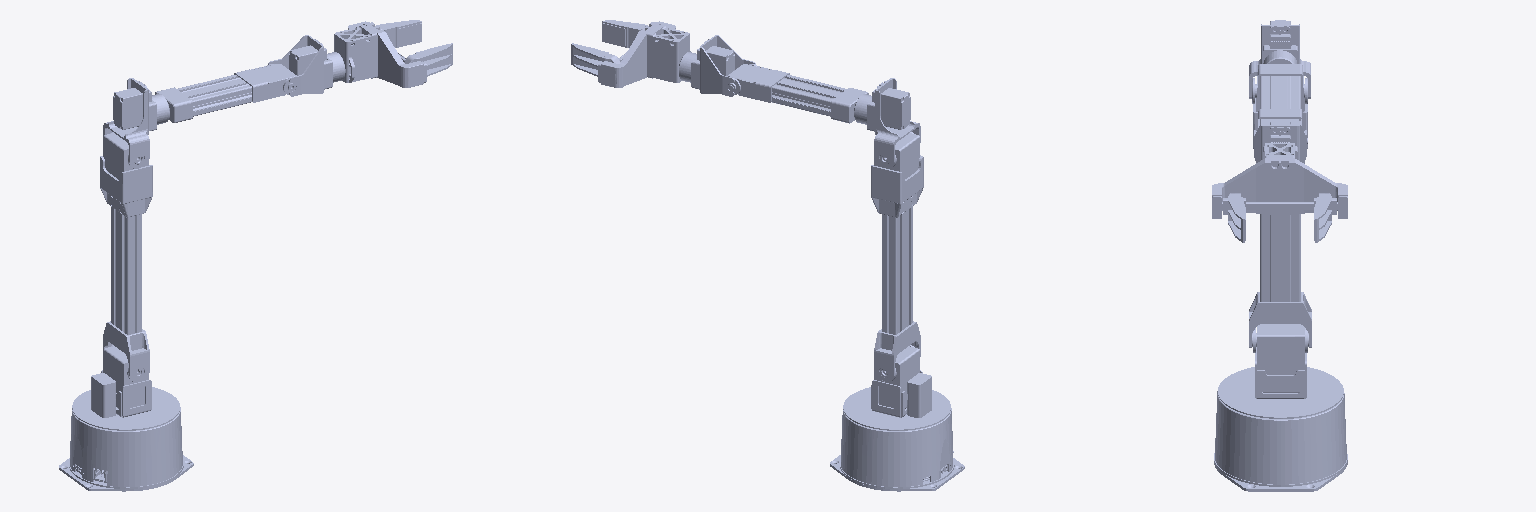
The robot description file, URDF, robot "d1_550_description":
<?xml version="1.0" encoding="utf-8"?>
<!-- This URDF was automatically created by SolidWorks to URDF Exporter! Originally created by [author] ([email redacted]) 
     Commit Version: 1.6.0-4-g7f85cfe  Build Version: 1.6.7995.38578
     For more information, please see http://wiki.ros.org/sw_urdf_exporter -->
<robot
  name="d1_550_description">
  <link
    name="base_link">
    <inertial>
      <origin
        xyz="-9.0106E-05 -0.00012378 0.033469"
        rpy="0 0 0" />
      <mass
        value="0.16964" />
      <inertia
        ixx="0.00030483"
        ixy="1.2051E-06"
        ixz="3.9736E-06"
        iyy="0.00031037"
        iyz="8.0144E-07"
        izz="0.00050913" />
    </inertial>
    <visual>
      <origin
        xyz="0 0 0"
        rpy="0 0 0" />
      <geometry>
        <mesh
          filename="package://d1_550_description/meshes/base_link.STL" />
      </geometry>
      <material
        name="">
        <color
          rgba="0.79216 0.81961 0.93333 1" />
      </material>
    </visual>
    <collision>
      <origin
        xyz="0 0 0"
        rpy="0 0 0" />
      <geometry>
        <mesh
          filename="package://d1_550_description/meshes/base_link.STL" />
      </geometry>
    </collision>
  </link>
  <link
    name="Empty_Link1">
    <inertial>
      <origin
        xyz="-0.0030892 6.1834E-05 0.031665"
        rpy="0 0 0" />
      <mass
        value="0.14706" />
      <inertia
        ixx="7.8054E-05"
        ixy="1.9698E-10"
        ixz="-1.574E-08"
        iyy="6.6897E-05"
        iyz="-4.3439E-09"
        izz="7.0773E-05" />
    </inertial>
    <visual>
      <origin
        xyz="0 0 0"
        rpy="0 0 0" />
      <geometry>
        <mesh
          filename="package://d1_550_description/meshes/Empty_Link1.STL" />
      </geometry>
      <material
        name="">
        <color
          rgba="0.79216 0.81961 0.93333 1" />
      </material>
    </visual>
    <collision>
      <origin
        xyz="0 0 0"
        rpy="0 0 0" />
      <geometry>
        <mesh
          filename="package://d1_550_description/meshes/Empty_Link1.STL" />
      </geometry>
    </collision>
  </link>
  <joint
    name="Joint1"
    type="revolute">
    <origin
      xyz="0 0 0.0738"
      rpy="0 0 0" />
    <parent
      link="base_link" />
    <child
      link="Empty_Link1" />
    <axis
      xyz="0 0 -1" />
    <limit
      lower="-2.36"
      upper="2.36"
      effort="3.33"
      velocity="1.05" />
  </joint>
  <link
    name="Empty_Link2">
    <inertial>
      <origin
        xyz="5.7801E-05 0.027243 0.19413"
        rpy="0 0 0" />
      <mass
        value="0.20987" />
      <inertia
        ixx="0.00025832"
        ixy="-2.101E-11"
        ixz="-1.4864E-07"
        iyy="0.00023175"
        iyz="-4.425E-09"
        izz="6.5679E-05" />
    </inertial>
    <visual>
      <origin
        xyz="0 0 0"
        rpy="0 0 0" />
      <geometry>
        <mesh
          filename="package://d1_550_description/meshes/Empty_Link2.STL" />
      </geometry>
      <material
        name="">
        <color
          rgba="0.79216 0.81961 0.93333 1" />
      </material>
    </visual>
    <collision>
      <origin
        xyz="0 0 0"
        rpy="0 0 0" />
      <geometry>
        <mesh
          filename="package://d1_550_description/meshes/Empty_Link2.STL" />
      </geometry>
    </collision>
  </link>
  <joint
    name="Joint2"
    type="revolute">
    <origin
      xyz="0 -0.0276 0.0578"
      rpy="0 0 0" />
    <parent
      link="Empty_Link1" />
    <child
      link="Empty_Link2" />
    <axis
      xyz="0 1 0" />
    <limit
      lower="-1.57"
      upper="1.57"
      effort="3.33"
      velocity="1.05" />
  </joint>
  <link
    name="Empty_Link3">
    <inertial>
      <origin
        xyz="0.016105 0.0275 0.044231"
        rpy="0 0 0" />
      <mass
        value="0.064921" />
      <inertia
        ixx="2.0648E-05"
        ixy="-3.9865E-11"
        ixz="-2.0913E-06"
        iyy="1.6024E-05"
        iyz="-5.5601E-11"
        izz="1.2186E-05" />
    </inertial>
    <visual>
      <origin
        xyz="0 0 0"
        rpy="0 0 0" />
      <geometry>
        <mesh
          filename="package://d1_550_description/meshes/Empty_Link3.STL" />
      </geometry>
      <material
        name="">
        <color
          rgba="0.79216 0.81961 0.93333 1" />
      </material>
    </visual>
    <collision>
      <origin
        xyz="0 0 0"
        rpy="0 0 0" />
      <geometry>
        <mesh
          filename="package://d1_550_description/meshes/Empty_Link3.STL" />
      </geometry>
    </collision>
  </link>
  <joint
    name="Joint3"
    type="revolute">
    <origin
      xyz="0 -0.0004 0.27"
      rpy="0 0 0" />
    <parent
      link="Empty_Link2" />
    <child
      link="Empty_Link3" />
    <axis
      xyz="0 1 0" />
    <limit
      lower="-1.57"
      upper="1.57"
      effort="3.33"
      velocity="1.05" />
  </joint>
  <link
    name="Empty_Link4">
    <inertial>
      <origin
        xyz="0.096072 3.157E-05 0.00025559"
        rpy="0 0 0" />
      <mass
        value="0.081362" />
      <inertia
        ixx="1.6724E-05"
        ixy="-5.5957E-08"
        ixz="9.45E-08"
        iyy="5.1663E-05"
        iyz="1.6089E-12"
        izz="6.1415E-05" />
    </inertial>
    <visual>
      <origin
        xyz="0 0 0"
        rpy="0 0 0" />
      <geometry>
        <mesh
          filename="package://d1_550_description/meshes/Empty_Link4.STL" />
      </geometry>
      <material
        name="">
        <color
          rgba="0.79216 0.81961 0.93333 1" />
      </material>
    </visual>
    <collision>
      <origin
        xyz="0 0 0"
        rpy="0 0 0" />
      <geometry>
        <mesh
          filename="package://d1_550_description/meshes/Empty_Link4.STL" />
      </geometry>
    </collision>
  </link>
  <joint
    name="Joint4"
    type="revolute">
    <origin
      xyz="0.05 0.0275 0.041325"
      rpy="0 0 0" />
    <parent
      link="Empty_Link3" />
    <child
      link="Empty_Link4" />
    <axis
      xyz="1 0 0" />
    <limit
      lower="-2.36"
      upper="2.36"
      effort="1.67"
      velocity="1.73" />
  </joint>
  <link
    name="Empty_Link5">
    <inertial>
      <origin
        xyz="0.044211 0.025813 0.0054296"
        rpy="0 0 0" />
      <mass
        value="0.059846" />
      <inertia
        ixx="1.4667E-05"
        ixy="-4.9109E-10"
        ixz="-4.7057E-07"
        iyy="1.2009E-05"
        iyz="1.4753E-09"
        izz="9.9767E-06" />
    </inertial>
    <visual>
      <origin
        xyz="0 0 0"
        rpy="0 0 0" />
      <geometry>
        <mesh
          filename="package://d1_550_description/meshes/Empty_Link5.STL" />
      </geometry>
      <material
        name="">
        <color
          rgba="0.79216 0.81961 0.93333 1" />
      </material>
    </visual>
    <collision>
      <origin
        xyz="0 0 0"
        rpy="0 0 0" />
      <geometry>
        <mesh
          filename="package://d1_550_description/meshes/Empty_Link5.STL" />
      </geometry>
    </collision>
  </link>
  <joint
    name="Joint5"
    type="revolute">
    <origin
      xyz="0.15468 -0.0258 0.0001"
      rpy="0 0 0" />
    <parent
      link="Empty_Link4" />
    <child
      link="Empty_Link5" />
    <axis
      xyz="0 1 0" />
    <limit
      lower="-1.57"
      upper="1.57"
      effort="1.67"
      velocity="1.73" />
  </joint>
  <link
    name="Empty_Link6">
    <inertial>
      <origin
        xyz="0.03844 -0.00044094 0.0060952"
        rpy="0 0 0" />
      <mass
        value="0.12117" />
      <inertia
        ixx="0.00011988"
        ixy="-9.0166E-08"
        ixz="1.1937E-06"
        iyy="3.2466E-05"
        iyz="-2.1696E-09"
        izz="0.0001058" />
    </inertial>
    <visual>
      <origin
        xyz="0 0 0"
        rpy="0 0 0" />
      <geometry>
        <mesh
          filename="package://d1_550_description/meshes/Empty_Link6.STL" />
      </geometry>
      <material
        name="">
        <color
          rgba="0.79216 0.81961 0.93333 1" />
      </material>
    </visual>
    <collision>
      <origin
        xyz="0 0 0"
        rpy="0 0 0" />
      <geometry>
        <mesh
          filename="package://d1_550_description/meshes/Empty_Link6.STL" />
      </geometry>
    </collision>
  </link>
  <joint
    name="Joint6"
    type="revolute">
    <origin
      xyz="0.0777 0.025822 -0.0010718"
      rpy="0 0 0" />
    <parent
      link="Empty_Link5" />
    <child
      link="Empty_Link6" />
    <axis
      xyz="1 0 0" />
    <limit
      lower="-2.36"
      upper="2.36"
      effort="1.67"
      velocity="1.73" />
  </joint>
  <link
    name="Empty_Link_L">
    <inertial>
      <origin
        xyz="0.018562 -0.0073492 -0.0034988"
        rpy="0 0 0" />
      <mass
        value="0.01333" />
      <inertia
        ixx="1.0229E-06"
        ixy="-1.5002E-07"
        ixz="1.3407E-11"
        iyy="2.3789E-06"
        iyz="-1.3846E-14"
        izz="1.8134E-06" />
    </inertial>
    <visual>
      <origin
        xyz="0 0 0"
        rpy="0 0 0" />
      <geometry>
        <mesh
          filename="package://d1_550_description/meshes/Empty_Link_L.STL" />
      </geometry>
      <material
        name="">
        <color
          rgba="0.79216 0.81961 0.93333 1" />
      </material>
    </visual>
    <collision>
      <origin
        xyz="0 0 0"
        rpy="0 0 0" />
      <geometry>
        <mesh
          filename="package://d1_550_description/meshes/Empty_Link_L.STL" />
      </geometry>
    </collision>
  </link>
  <joint
    name="Joint_L"
    type="prismatic">
    <origin
      xyz="0.0718 -0.033778 0.0031"
      rpy="0 0 0" />
    <parent
      link="Empty_Link6" />
    <child
      link="Empty_Link_L" />
    <axis
      xyz="0 1 0" />
    <limit
      lower="0"
      upper="0.033"
      effort="15"
      velocity="0.02" />
  </joint>
  <link
    name="Empty_Link_R">
    <inertial>
      <origin
        xyz="0.018562 0.0073492 -0.0035012"
        rpy="0 0 0" />
      <mass
        value="0.01333" />
      <inertia
        ixx="1.0229E-06"
        ixy="1.5002E-07"
        ixz="-1.3407E-11"
        iyy="2.3789E-06"
        iyz="-1.3811E-14"
        izz="1.8134E-06" />
    </inertial>
    <visual>
      <origin
        xyz="0 0 0"
        rpy="0 0 0" />
      <geometry>
        <mesh
          filename="package://d1_550_description/meshes/Empty_Link_R.STL" />
      </geometry>
      <material
        name="">
        <color
          rgba="0.79216 0.81961 0.93333 1" />
      </material>
    </visual>
    <collision>
      <origin
        xyz="0 0 0"
        rpy="0 0 0" />
      <geometry>
        <mesh
          filename="package://d1_550_description/meshes/Empty_Link_R.STL" />
      </geometry>
    </collision>
  </link>
  <joint
    name="Joint_R"
    type="prismatic">
    <origin
      xyz="0.0718 0.033022 0.0031"
      rpy="0 0 0" />
    <parent
      link="Empty_Link6" />
    <child
      link="Empty_Link_R" />
    <axis
      xyz="0 -1 0" />
    <limit
      lower="0"
      upper="0.033"
      effort="15"
      velocity="0.02" />
  </joint>
</robot>

--- What the picture shows (computed from the rendered views, not written in the file) ---
The picture shows the robot from 3 angles, left to right: view 1: azimuth 30°, elevation 25°; view 2: azimuth 150°, elevation 25°; view 3: azimuth 270°, elevation 25°; orthographic projection.
Robot: d1_550_description — 9 links, 8 joints (6 revolute, 2 prismatic); root link base_link; default pose: all joints at 0.
Visible links, largest first — view 1: Empty_Link2, base_link, Empty_Link1, Empty_Link4, Empty_Link6, Empty_Link3, Empty_Link5, Empty_Link_R, Empty_Link_L; view 2: Empty_Link2, base_link, Empty_Link1, Empty_Link4, Empty_Link6, Empty_Link3, Empty_Link5, Empty_Link_R, Empty_Link_L; view 3: base_link, Empty_Link1, Empty_Link2, Empty_Link6, Empty_Link4, Empty_Link3, Empty_Link5, Empty_Link_L, Empty_Link_R.
Link boxes in pixels (left/top/right/bottom): Empty_Link2: left=100, top=132, right=152, bottom=377; base_link: left=59, top=407, right=193, bottom=491; Empty_Link1: left=72, top=345, right=179, bottom=430; Empty_Link4: left=155, top=64, right=296, bottom=122; Empty_Link6: left=334, top=21, right=426, bottom=87; Empty_Link3: left=103, top=78, right=169, bottom=163; Empty_Link5: left=268, top=35, right=345, bottom=96; Empty_Link_R: left=375, top=20, right=421, bottom=47; Empty_Link_L: left=404, top=43, right=452, bottom=76; Empty_Link2: left=871, top=132, right=923, bottom=376; base_link: left=830, top=408, right=964, bottom=491; Empty_Link1: left=843, top=345, right=950, bottom=430; Empty_Link4: left=728, top=64, right=868, bottom=123; Empty_Link6: left=598, top=21, right=690, bottom=87; Empty_Link3: left=854, top=78, right=920, bottom=163; Empty_Link5: left=679, top=35, right=755, bottom=96; Empty_Link_R: left=571, top=43, right=620, bottom=76; Empty_Link_L: left=602, top=20, right=648, bottom=47; base_link: left=1214, top=391, right=1347, bottom=491; Empty_Link1: left=1218, top=324, right=1343, bottom=418; Empty_Link2: left=1249, top=76, right=1311, bottom=347; Empty_Link6: left=1212, top=143, right=1347, bottom=218; Empty_Link4: left=1256, top=64, right=1307, bottom=143; Empty_Link3: left=1249, top=20, right=1310, bottom=98; Empty_Link5: left=1254, top=121, right=1306, bottom=163; Empty_Link_L: left=1223, top=193, right=1245, bottom=242; Empty_Link_R: left=1314, top=193, right=1336, bottom=242.
Size in the robot's own frame: 0.481 by 0.134 by 0.4806 metres.
9 mesh visuals loaded from 9 distinct referenced files (9 binary STL).